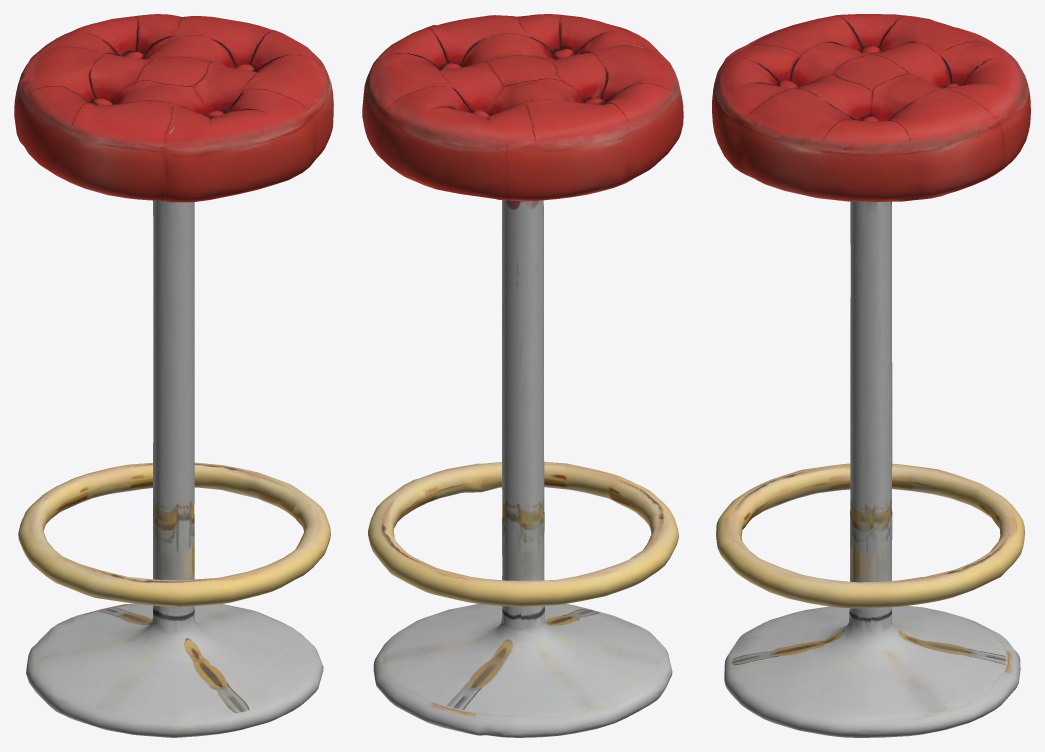
Rendered from bar-stool-leather.glb.
The picture shows the model from 3 angles, left to right: view 1: azimuth 30°, elevation 25°; view 2: azimuth 150°, elevation 25°; view 3: azimuth 270°, elevation 25°; orthographic projection.
Bounding box in the file's own units: 0.9434 × 2 × 0.9439.
1 material, 1 textured.
